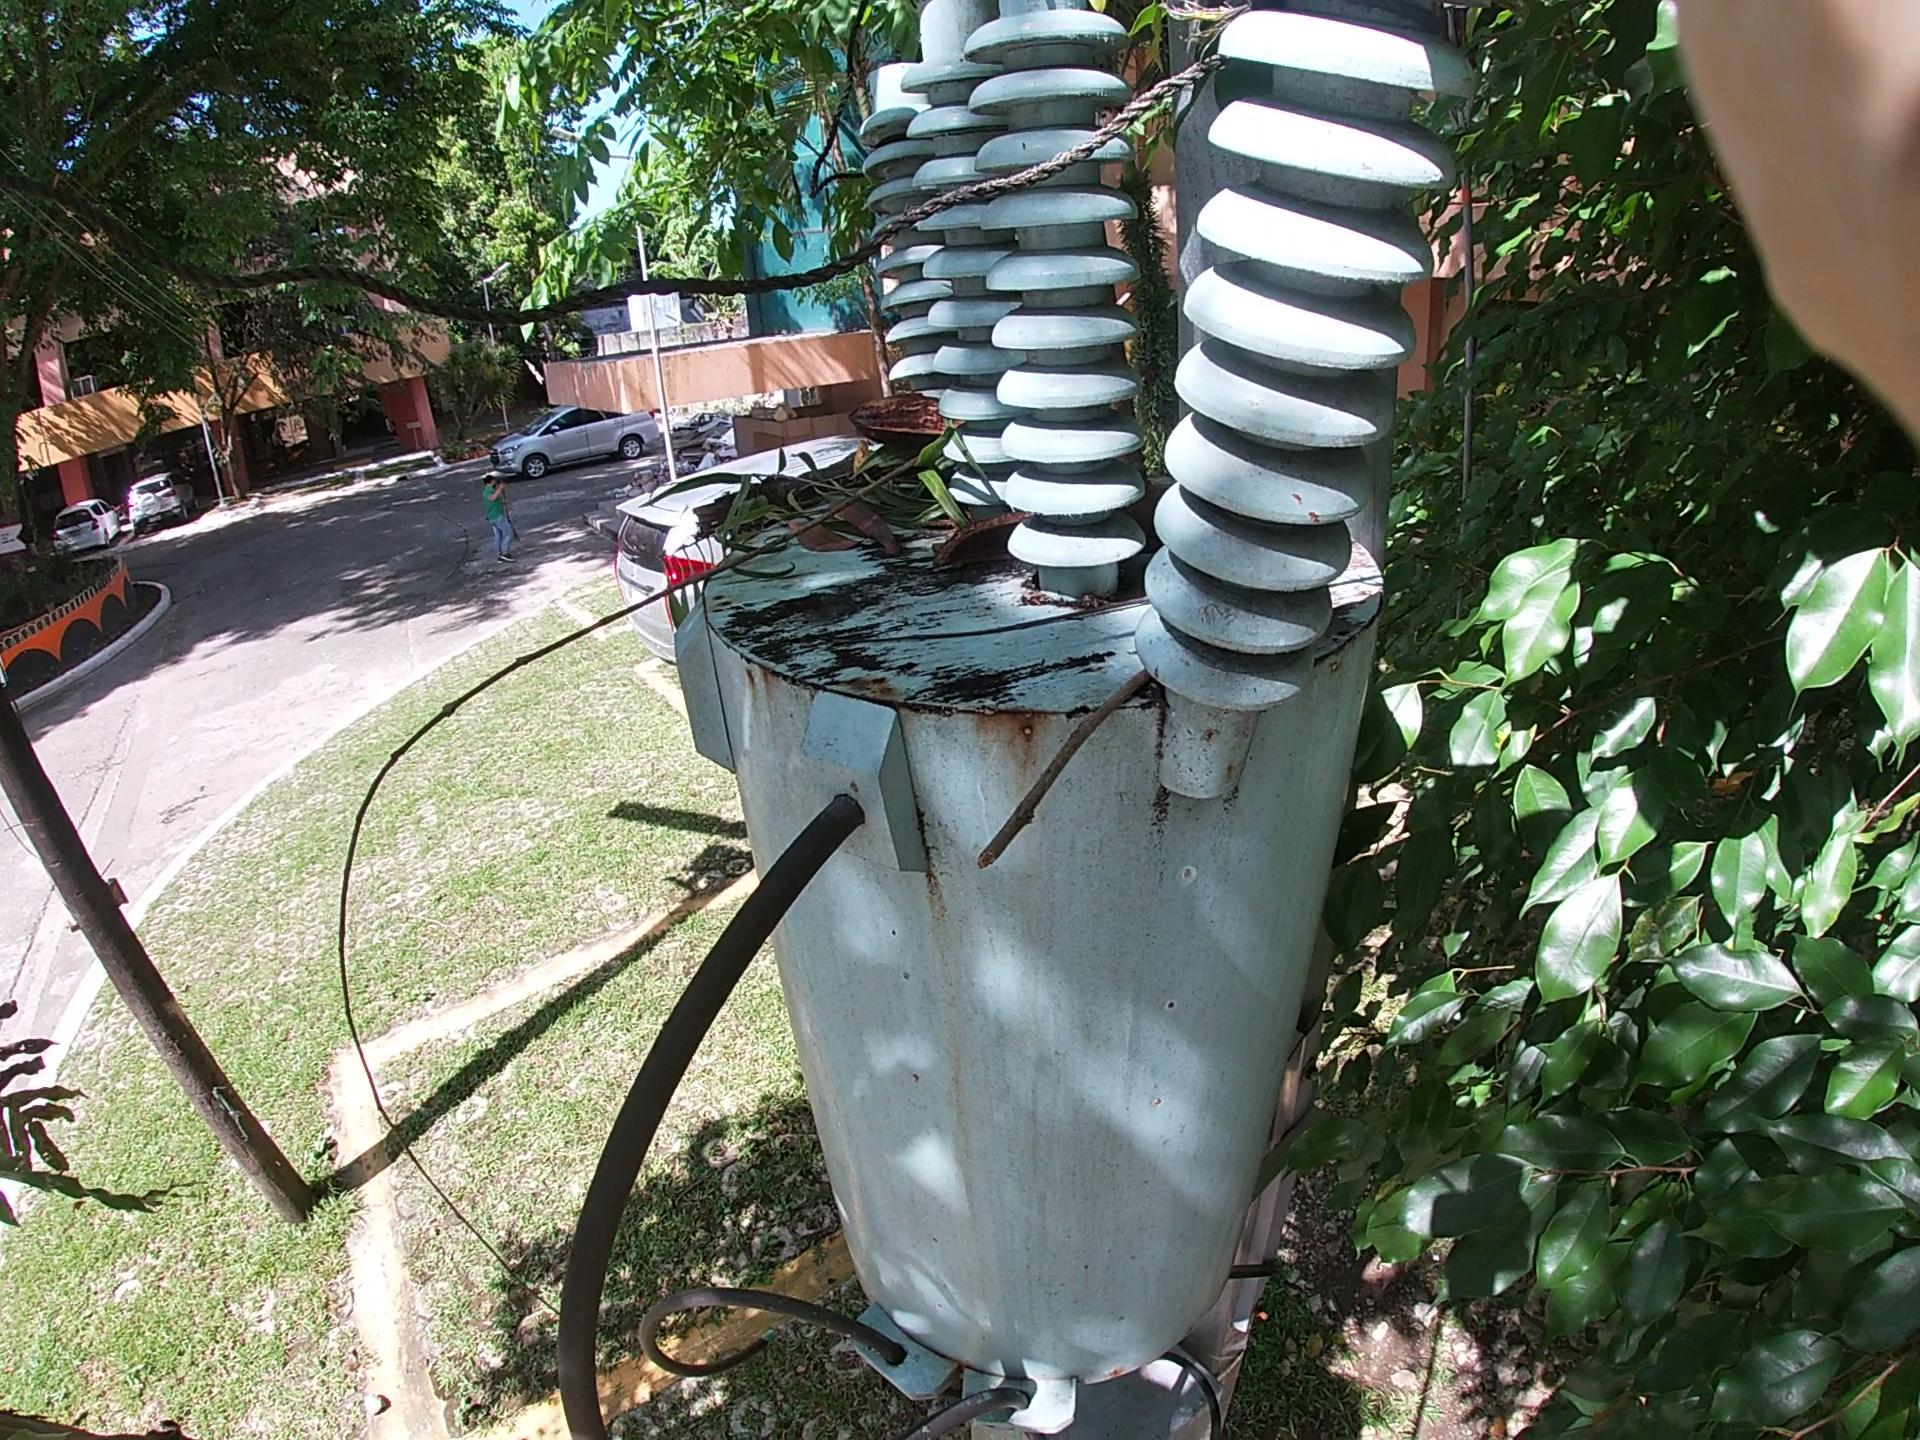branch with leaves: (736, 324, 986, 537)
leaf: (800, 433, 877, 616)
mahogany fruit: (831, 377, 931, 489), (924, 476, 1113, 535)
tree branch: (425, 460, 958, 877), (1020, 620, 1179, 906)
